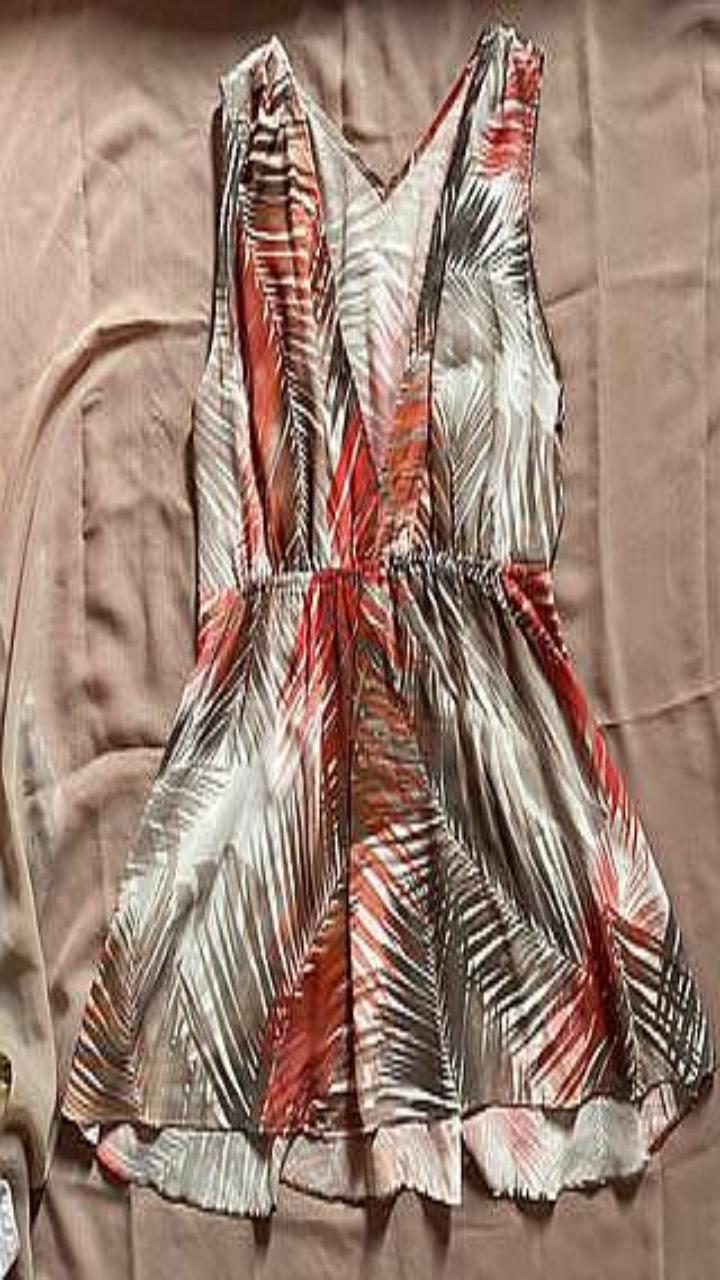Dresses: (62, 22, 714, 1213)
